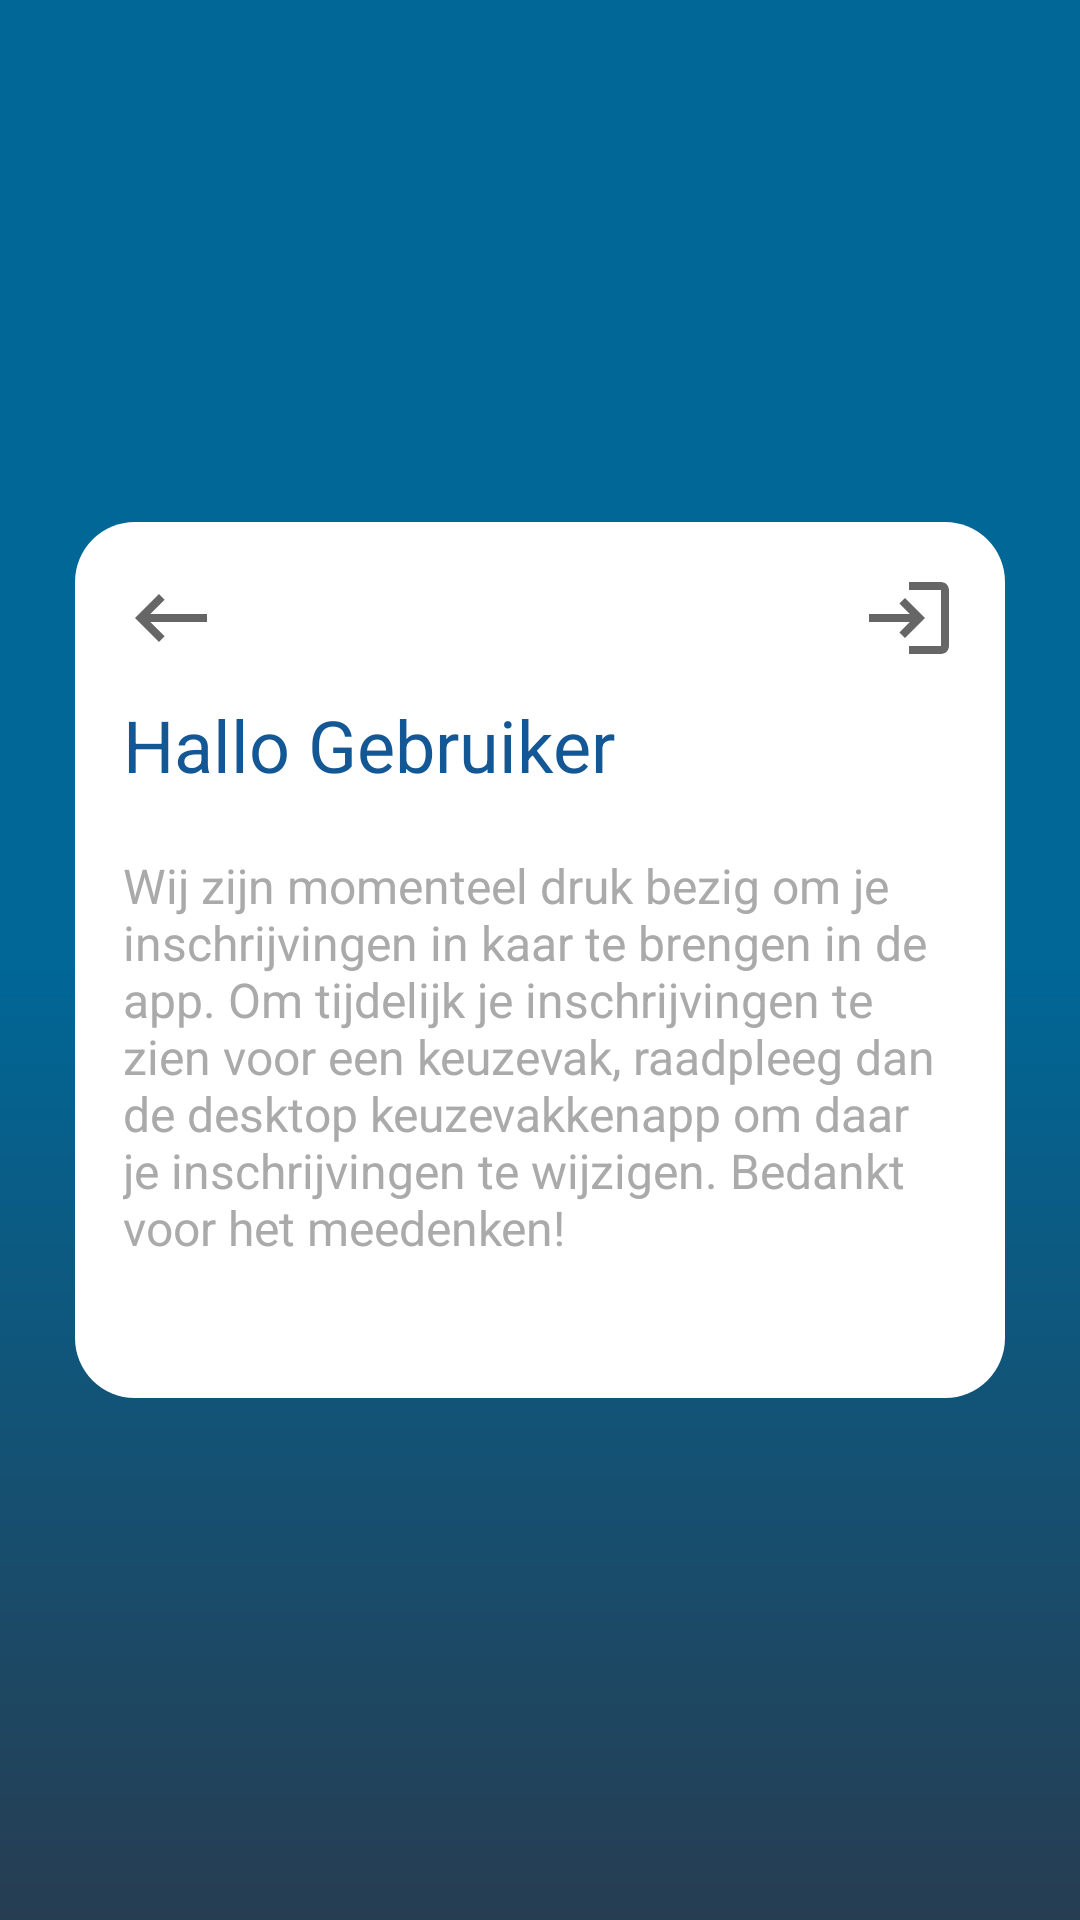

Icon bounding boxes for this 1080px×1920px phone screenshot, format rect(x1, y1, x2, y2):
navigate back: rect(135, 594, 207, 642)
